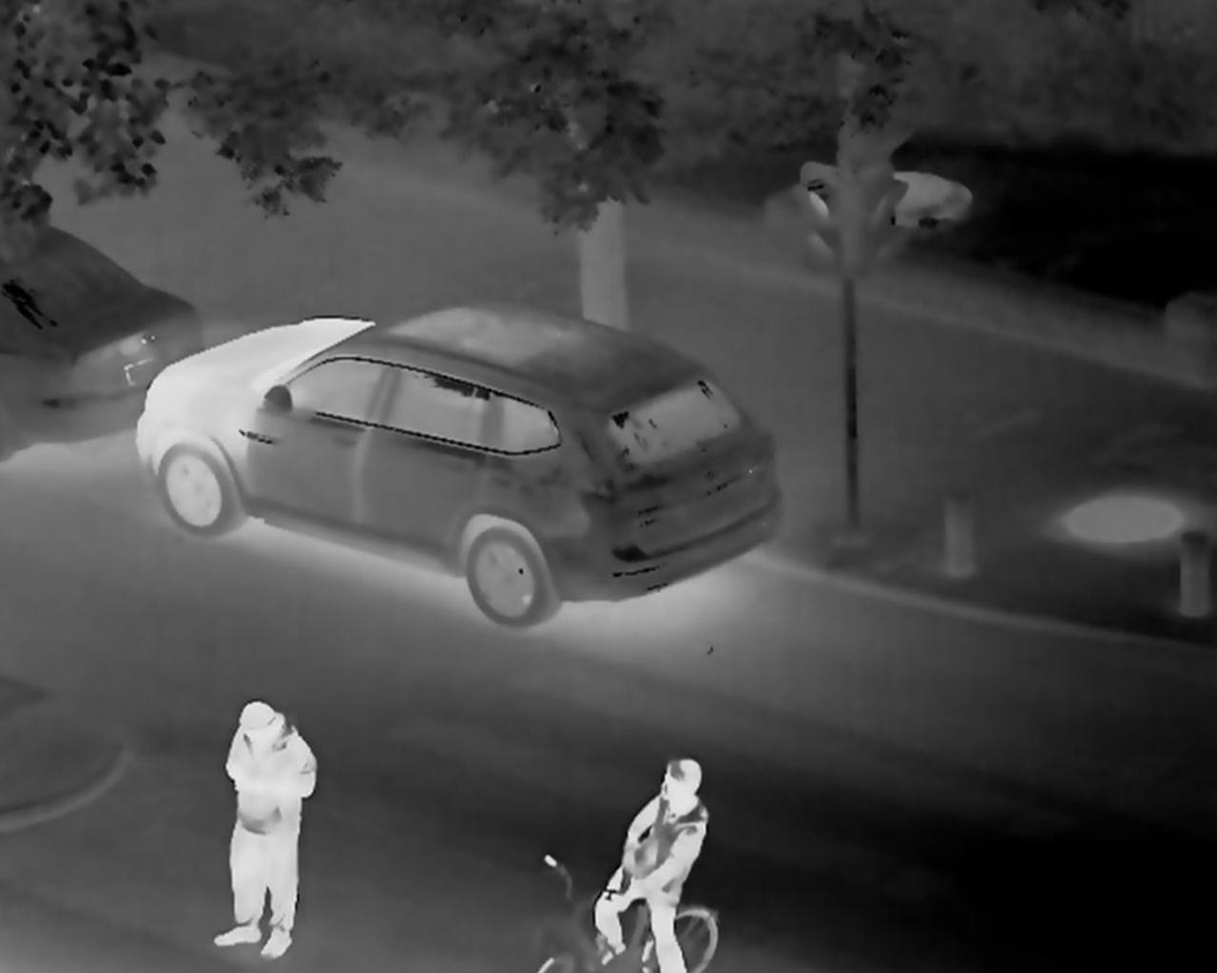person: (213, 696, 315, 963), (591, 759, 705, 973)
